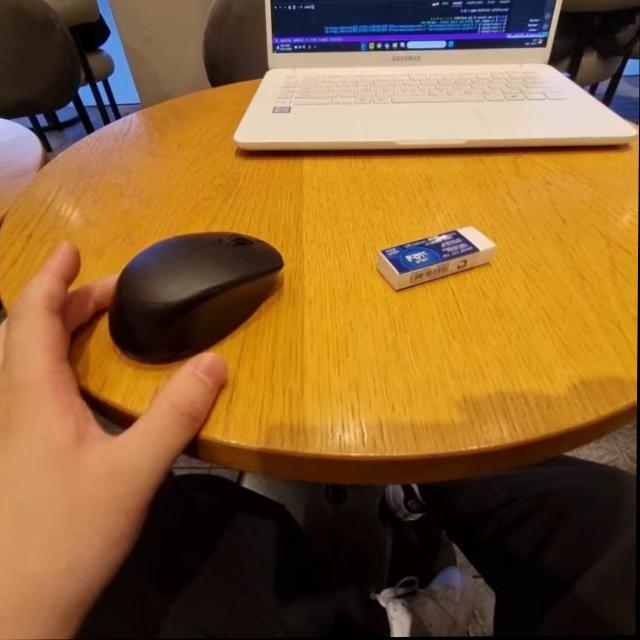eraser: (380, 215, 498, 297)
grab_mouse: (0, 207, 289, 569)
